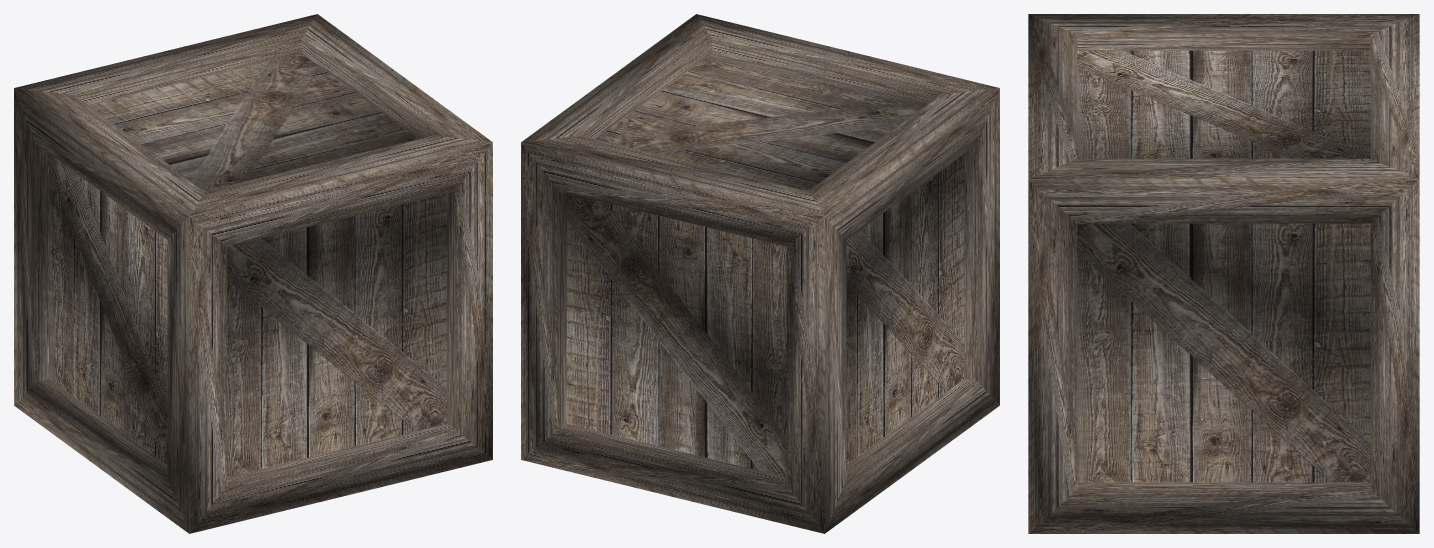
File: Wooden Box Comp.gltf
3 views of the same model, side by side, from view 1: azimuth 30°, elevation 25°; view 2: azimuth 150°, elevation 25°; view 3: azimuth 270°, elevation 25° (orthographic). The views are drawn at different scales.
Visible parts, largest first — view 1: Cube; view 2: Cube; view 3: Cube.
Boxes of the visible parts, box(x1,y1,x2,y2) form: Cube: box(14, 14, 492, 533); Cube: box(521, 14, 999, 533); Cube: box(1028, 14, 1419, 533).
Bounding box in the file's own units: 2 × 2 × 2.
Materials: 1 (1 with a texture image).
